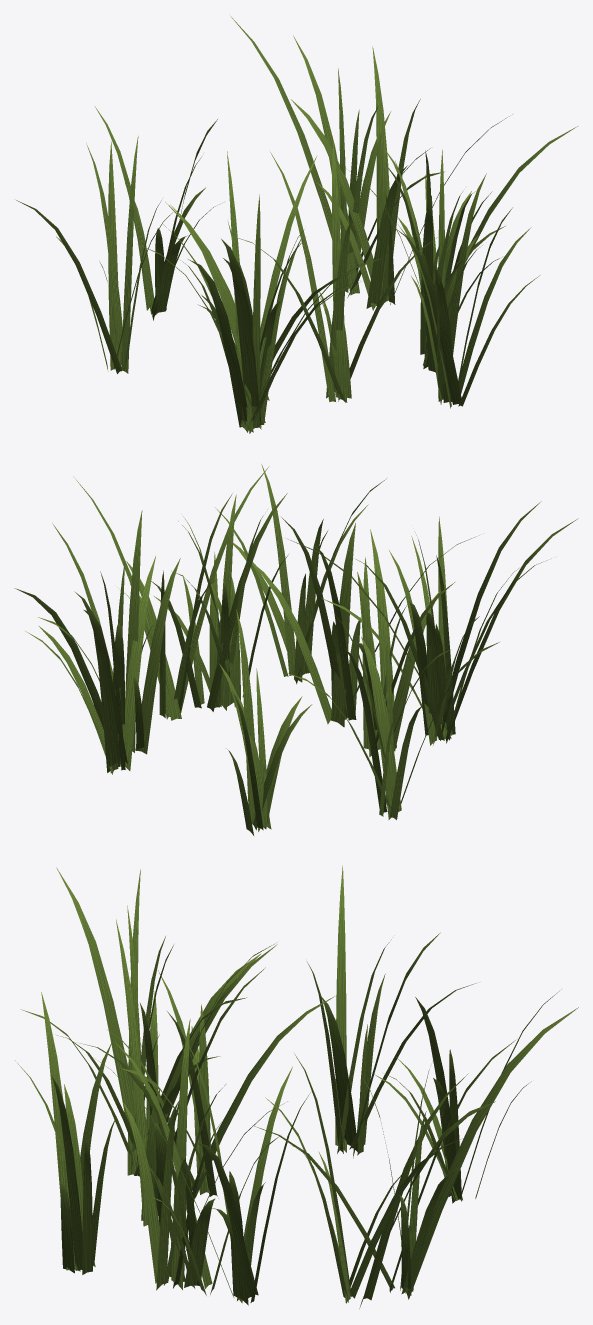
Rendered from Bentgrass_C.fbx.
3 renders of one model, top to bottom at view 1: azimuth 30°, elevation 25°; view 2: azimuth 150°, elevation 25°; view 3: azimuth 270°, elevation 25°, orthographic. The views are drawn at different scales.
Parts seen in each view (by area): view 1: Bentgrass_C_LOD0; view 2: Bentgrass_C_LOD0; view 3: Bentgrass_C_LOD0.
Boxes of the visible parts, left/top/right/bottom form: Bentgrass_C_LOD0: left=16, top=16, right=577, bottom=433; Bentgrass_C_LOD0: left=14, top=464, right=578, bottom=835; Bentgrass_C_LOD0: left=15, top=865, right=578, bottom=1308.
Size of what is drawn, in the model's own units: 38.29 by 17.24 by 33.04.
1 material, 1 textured.
